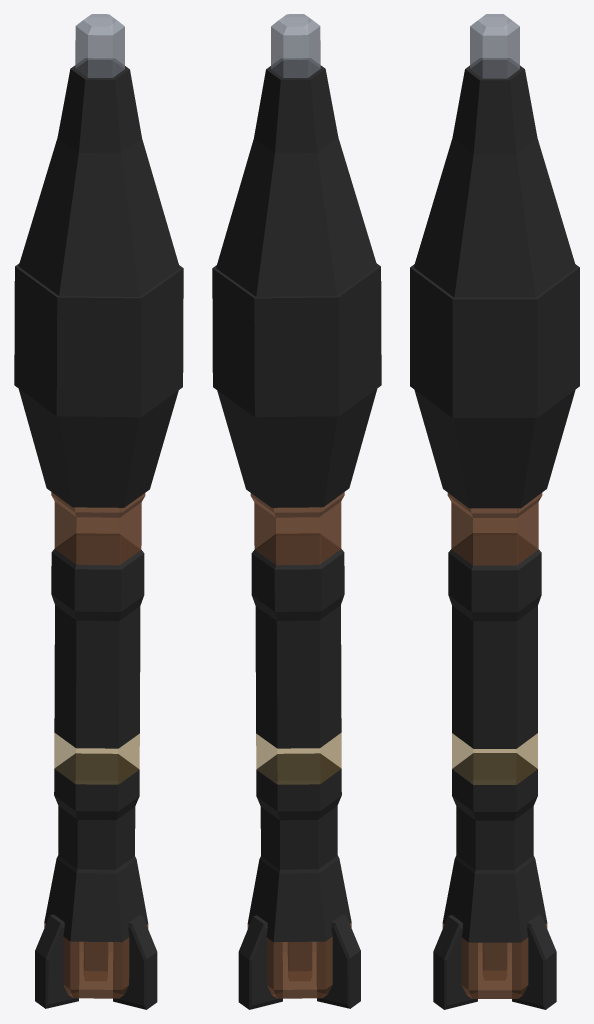
3 views of the same model, side by side, from view 1: azimuth 30°, elevation 25°; view 2: azimuth 150°, elevation 25°; view 3: azimuth 270°, elevation 25° (orthographic).
Visible parts, largest first — view 1: Cylinder; view 2: Cylinder; view 3: Cylinder.
Boxes of the visible parts, bbox=[...] form: Cylinder: bbox=[14, 14, 183, 1009]; Cylinder: bbox=[212, 14, 381, 1009]; Cylinder: bbox=[410, 14, 579, 1009].
Size of the model in its own units: 66.13 by 484 by 76.44.
